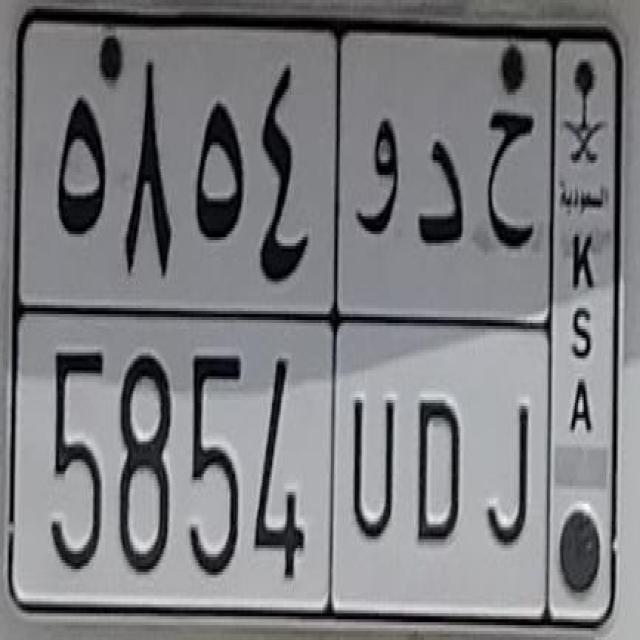license_plate: (5, 7, 625, 633)
